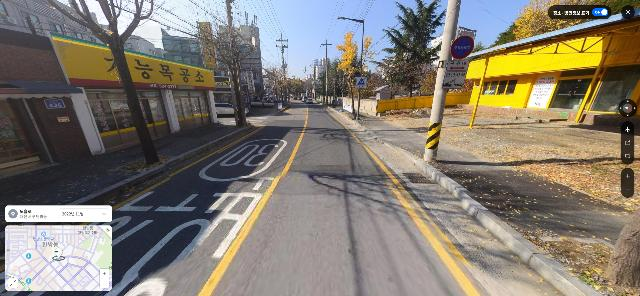ginkgo: (332, 29, 378, 120)
other: (47, 0, 188, 164), (188, 0, 268, 127), (378, 0, 460, 97), (261, 59, 292, 111)
